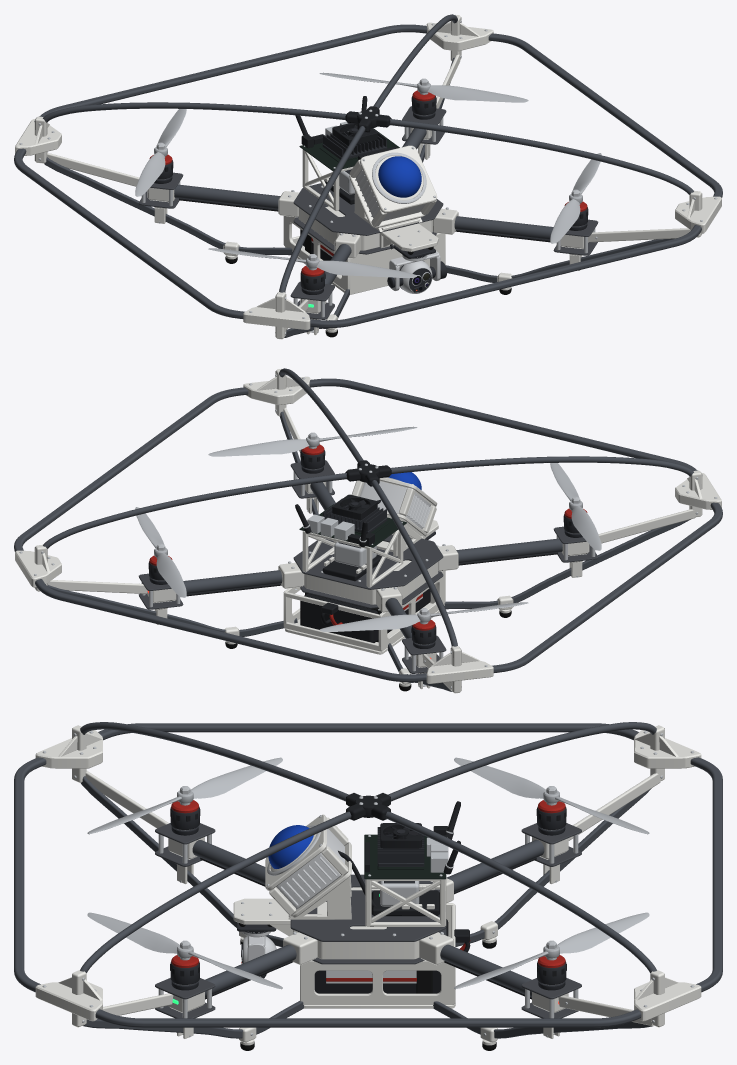
The model's file is anet_du7.glb.
The picture shows the model from 3 angles, top to bottom: view 1: azimuth 30°, elevation 25°; view 2: azimuth 150°, elevation 25°; view 3: azimuth 270°, elevation 25°; orthographic projection. The views are drawn at different scales.
Parts seen in each view (by area): view 1: Cage_Hoop__carbon, Cage_Arches__carbon, Cage_CornerBrackets__white, Arms__carbon, Cage_LowerStruts__carbon, LiDAR_Housing__white, Chassis__carbonPlate, Battery_Bracket__white, Cage_Braces__white, Motor_Mounts__carbonPlate, Propeller_RL_ROTATABLE, Propeller_FR_ROTATABLE (+17 smaller); view 2: Cage_Hoop__carbon, Cage_Arches__carbon, Cage_CornerBrackets__white, Arms__carbon, Cage_LowerStruts__carbon, Chassis__carbonPlate, Battery_Bracket__white, Cage_Braces__white, Motor_Mounts__carbonPlate, Battery_4S__blackPlastic, Compute_Stand__white, Chassis__white (+17 smaller); view 3: Cage_Hoop__carbon, Cage_Arches__carbon, Cage_CornerBrackets__white, Cage_LowerStruts__carbon, Arms__carbon, Battery_Bracket__white, Chassis__carbonPlate, Motor_Mounts__carbonPlate, Cage_Braces__white, LiDAR_Housing__white, Motor_Mounts__white, Chassis__white (+25 smaller).
Boxes of the visible parts, x1,y1,x2,y2 form: Cage_Hoop__carbon: (14, 24, 722, 328); Cage_Arches__carbon: (43, 14, 693, 292); Cage_CornerBrackets__white: (15, 14, 721, 339); Arms__carbon: (174, 128, 553, 284); Cage_LowerStruts__carbon: (44, 57, 674, 337); LiDAR_Housing__white: (349, 145, 437, 231); Chassis__carbonPlate: (293, 183, 443, 254); Battery_Bracket__white: (283, 216, 445, 294); Cage_Braces__white: (47, 54, 690, 329); Motor_Mounts__carbonPlate: (138, 106, 598, 319); Propeller_RL_ROTATABLE: (319, 72, 528, 102); Propeller_FR_ROTATABLE: (208, 248, 417, 277); Cage_Hoop__carbon: (14, 378, 722, 682); Cage_Arches__carbon: (43, 368, 693, 646); Cage_CornerBrackets__white: (15, 368, 721, 693); Arms__carbon: (183, 482, 562, 638); Cage_LowerStruts__carbon: (47, 411, 690, 691); Chassis__carbonPlate: (293, 534, 443, 608); Battery_Bracket__white: (283, 570, 445, 654); Cage_Braces__white: (47, 407, 695, 691); Motor_Mounts__carbonPlate: (138, 460, 598, 673); Battery_4S__blackPlastic: (300, 589, 430, 642); Compute_Stand__white: (302, 529, 403, 587); Chassis__white: (304, 541, 438, 604); Cage_Hoop__carbon: (14, 723, 722, 1027); Cage_Arches__carbon: (80, 722, 656, 972); Cage_CornerBrackets__white: (35, 725, 701, 1027); Cage_LowerStruts__carbon: (81, 776, 652, 1038); Arms__carbon: (192, 840, 544, 997); Battery_Bracket__white: (300, 903, 455, 1008); Chassis__carbonPlate: (290, 874, 446, 964); Motor_Mounts__carbonPlate: (155, 823, 581, 1018); Cage_Braces__white: (85, 771, 660, 1026); LiDAR_Housing__white: (265, 814, 351, 919); Motor_Mounts__white: (168, 837, 568, 1038); Chassis__white: (298, 887, 438, 959).
Bounding box in the file's own units: 0.684 × 0.211 × 0.684.
